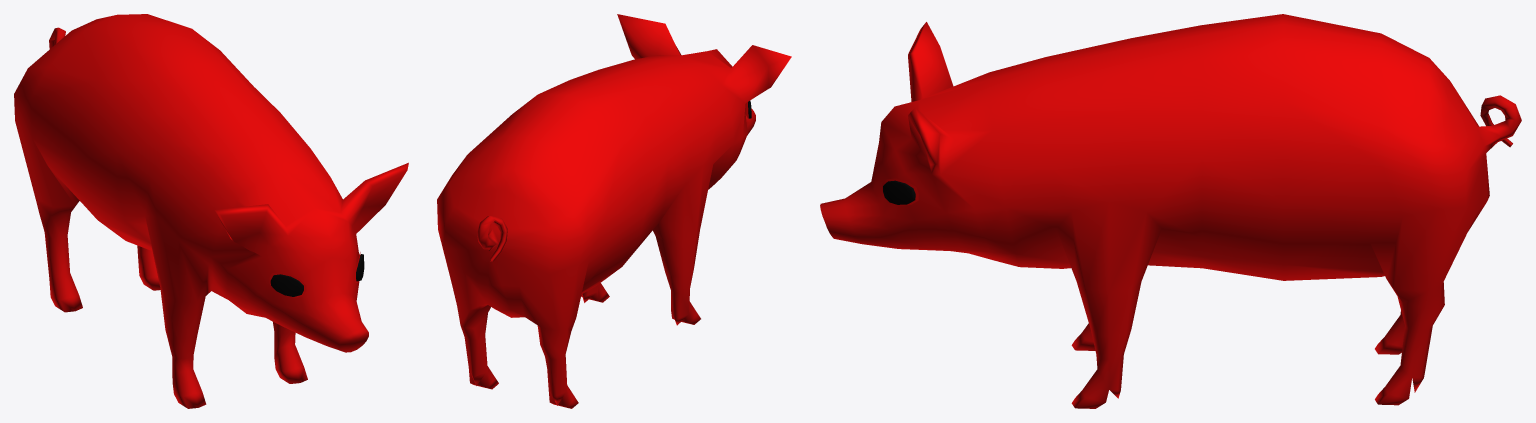
Rendered from pig.fbx.
3 renders of one model, left to right at view 1: azimuth 30°, elevation 25°; view 2: azimuth 150°, elevation 25°; view 3: azimuth 270°, elevation 25°, orthographic. The views are drawn at different scales.
Parts seen in each view (by area): view 1: pig; view 2: pig; view 3: pig.
Part boxes in pixels (bbox=[...]): pig: bbox=[14, 14, 408, 408]; pig: bbox=[437, 14, 791, 408]; pig: bbox=[820, 14, 1521, 408].
Size of the model in its own units: 666 by 1782 by 980.
